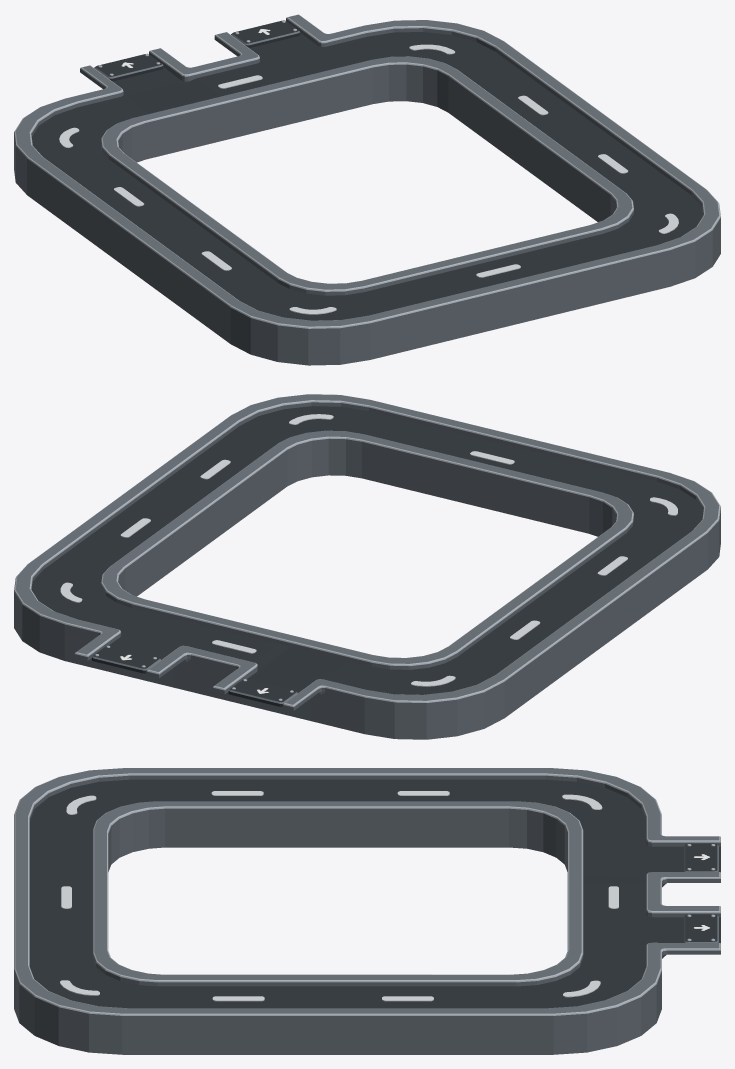
The model's file is Mdl_Conveyor.fbx.
The picture shows the model from 3 angles, top to bottom: view 1: azimuth 30°, elevation 25°; view 2: azimuth 150°, elevation 25°; view 3: azimuth 270°, elevation 25°; orthographic projection. The views are drawn at different scales.
Visible parts, largest first — view 1: Mesh_Conveyor; view 2: Mesh_Conveyor; view 3: Mesh_Conveyor.
Part boxes in pixels (x1=…): Mesh_Conveyor: x1=14, y1=14, x2=720, y2=365; Mesh_Conveyor: x1=14, y1=394, x2=720, y2=739; Mesh_Conveyor: x1=14, y1=768, x2=720, y2=1054.
Bounding box in the file's own units: 2243 × 173 × 2714.
